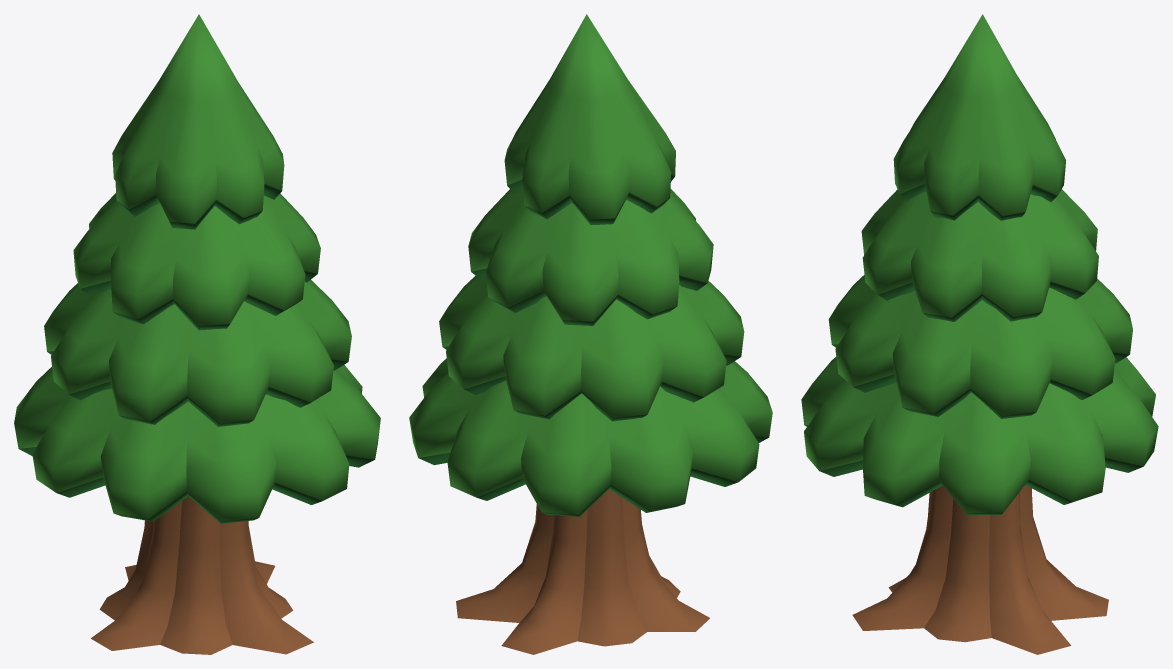
The model's file is tree_pine_low_2.glb.
3 views of the same model, side by side, from view 1: azimuth 30°, elevation 25°; view 2: azimuth 150°, elevation 25°; view 3: azimuth 270°, elevation 25° (orthographic).
Visible parts, largest first — view 1: Tree; view 2: Tree; view 3: Tree.
Part boxes in pixels (x1,y1,x2,y2): Tree: [14, 14, 380, 654]; Tree: [409, 14, 772, 654]; Tree: [801, 14, 1158, 654].
Size of the model in its own units: 2.67 by 4.8 by 2.63.
